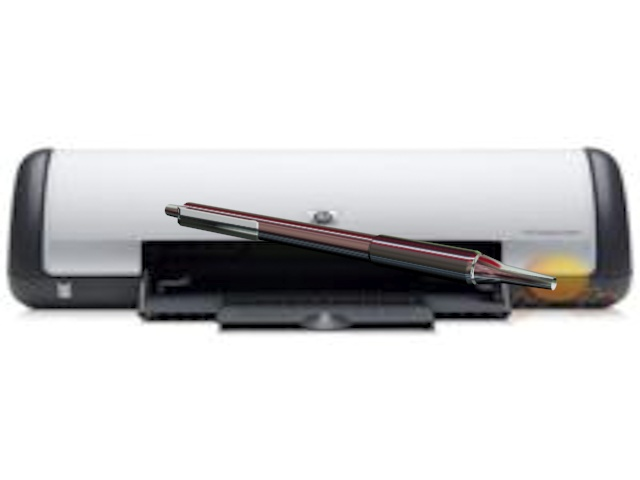pen: (160, 192, 560, 296)
